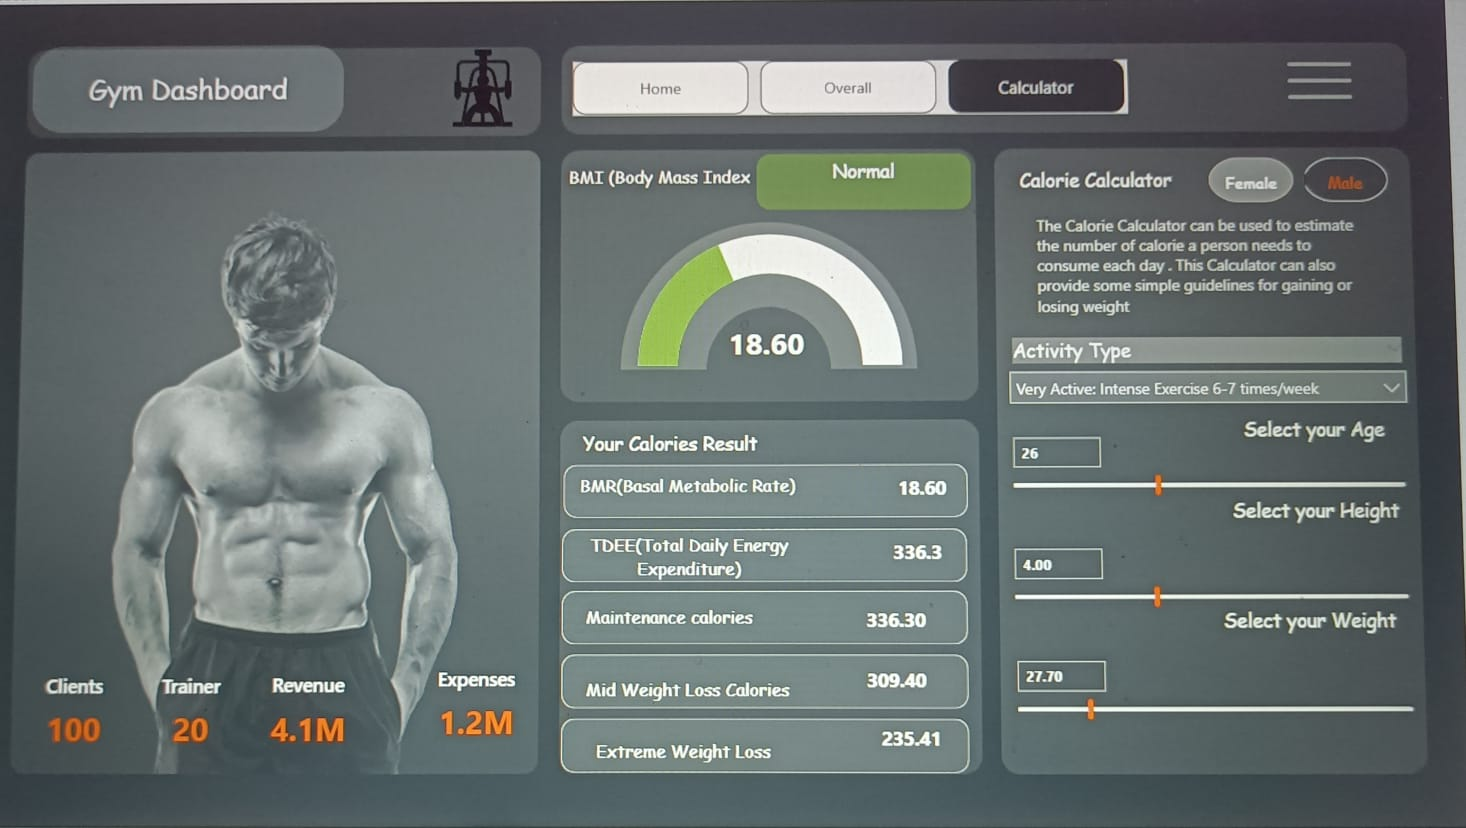

The page's visual inventory and layout, read from the dashboard file:
{"tool":"powerbi","page":{"name":"Calculator","canvas":[1280,720],"ordinal":2},"visuals":[{"type":"shape","box":[511.5,463.3,346.2,45.8],"z":0},{"type":"shape","box":[511.5,516.4,346.2,45.8],"z":1000},{"type":"shape","box":[511.5,570.6,346.2,45.8],"z":2000},{"type":"shape","box":[511.5,624.9,346.2,45.8],"z":3000},{"type":"slicer","fields":{"Values":["Age_Slicer.Age_Slicer"]},"box":[885.5,375.2,359.5,78.4],"z":4000},{"type":"slicer","fields":{"Values":["Height_Slicer.Height_Slicer"]},"box":[885.5,470.5,359.5,76],"z":5000},{"type":"slicer","fields":{"Values":["Weight_slider.Weight_slider"]},"box":[886.7,565.8,359.5,82],"z":6000},{"type":"slicer","fields":{"Values":["Silder_Activity.Category"]},"box":[885.5,294.4,359.5,80.8],"z":7000},{"type":"advancedSlicerVisual","fields":{"Values":["Silder_Gender.Category"]},"box":[1065.3,137.5,164.1,49.5],"z":8000},{"type":"shape","box":[879.5,146,185.8,49.5],"z":9000},{"type":"textbox","box":[915.7,187,300.4,98.9],"z":10000},{"type":"gauge","fields":{"Y":["Measure_Table.BMI"]},"box":[571.9,195.4,237.7,139.9],"z":11000},{"type":"shape","box":[1081,365.6,148.4,37.4],"z":12000},{"type":"shape","box":[1081,434.3,148.4,37.4],"z":13000},{"type":"shape","box":[1066.5,528.4,162.9,37.4],"z":14000},{"type":"card","fields":{"Values":["Measure_Table.BMI"]},"box":[639.4,285.9,96.5,37.4],"z":15000},{"type":"shape","box":[511.5,146,167.7,25.3],"z":16000},{"type":"shape","box":[679.2,137.5,185.8,49.5],"z":17000},{"type":"shape","box":[515.4,412.6,208.7,37.4],"z":18000},{"type":"card","fields":{"Values":["Measure_Table.BMI"]},"box":[772.4,411.4,96.5,37.4],"z":19000},{"type":"shape","box":[511.5,375.2,185.8,41],"z":20000},{"type":"shape","box":[512.7,407.8,346.2,45.8],"z":21000},{"type":"shape","box":[509.1,463.3,223.2,47.1],"z":22000},{"type":"card","fields":{"Values":["Measure_Table.TDEE"]},"box":[767.5,466.9,97.7,37.4],"z":23000},{"type":"shape","box":[499.5,526,208.7,37.4],"z":24000},{"type":"card","fields":{"Values":["Measure_Table.Maintain Calories"]},"box":[749.2,524.8,96.5,37.4],"z":25000},{"type":"shape","box":[515.2,587.5,208.7,37.4],"z":26000},{"type":"card","fields":{"Values":["Measure_Table.Mild_Weight_Loss Calories"]},"box":[749.2,575.5,96.5,37.4],"z":27000},{"type":"shape","box":[511.5,639.4,208.7,37.4],"z":28000},{"type":"card","fields":{"Values":["Measure_Table.Exreme Weight Loss Calories"]},"box":[761.3,624.9,96.5,37.4],"z":29000},{"type":"cardVisual","fields":{"Data":["Measure_Table.Users_Count"]},"box":[45.3,557.1,100.2,120.8],"z":30000},{"type":"cardVisual","fields":{"Data":["Count(Users.Trainer Name)"]},"box":[146,564.6,100.1,106.2],"z":31000},{"type":"cardVisual","fields":{"Data":["Measure_Table.Revenue"]},"box":[246.1,563.4,100.1,108.6],"z":32000},{"type":"cardVisual","fields":{"Data":["Measure_Table.Expenses"]},"box":[354.7,575.5,112.2,106.2],"z":33000},{"type":"image","box":[1101.5,36.2,136.3,79.6],"z":34000},{"type":"pageNavigator","box":[518.8,54.3,483.8,49.5],"z":35000},{"type":"shape","box":[45.8,38.6,273.9,77.2],"z":36000},{"type":"image","box":[354.7,38.6,172.5,78.4],"z":37000}]}

Visuals, with their boxes in screenshot pixels (x1, y1, x2, y2), scaled from the page's 1280x720 canvas onto the 1466x828 screenshot:
shape: 586:533:982:585
shape: 586:594:982:647
shape: 586:656:982:709
shape: 586:719:982:771
slicer - Age_Slicer.Age_Slicer: 1014:431:1426:522
slicer - Height_Slicer.Height_Slicer: 1014:541:1426:628
slicer - Weight_slider.Weight_slider: 1016:651:1427:745
slicer - Silder_Activity.Category: 1014:339:1426:431
advancedSlicerVisual - Silder_Gender.Category: 1220:158:1408:215
shape: 1007:168:1220:225
textbox: 1049:215:1393:329
gauge - Measure_Table.BMI: 655:225:927:386
shape: 1238:420:1408:463
shape: 1238:499:1408:542
shape: 1221:608:1408:651
card - Measure_Table.BMI: 732:329:843:372
shape: 586:168:778:197
shape: 778:158:991:215
shape: 590:474:829:518
card - Measure_Table.BMI: 885:473:995:516
shape: 586:431:799:479
shape: 587:469:984:522
shape: 583:533:839:587
card - Measure_Table.TDEE: 879:537:991:580
shape: 572:605:811:648
card - Measure_Table.Maintain Calories: 858:604:969:647
shape: 590:676:829:719
card - Measure_Table.Mild_Weight_Loss Calories: 858:662:969:705
shape: 586:735:825:778
card - Measure_Table.Exreme Weight Loss Calories: 872:719:982:762
cardVisual - Measure_Table.Users_Count: 52:641:167:780
cardVisual - Count(Users.Trainer Name): 167:649:282:771
cardVisual - Measure_Table.Revenue: 282:648:397:773
cardVisual - Measure_Table.Expenses: 406:662:535:784
image: 1262:42:1418:133
pageNavigator: 594:62:1148:119
shape: 52:44:366:133
image: 406:44:604:135
